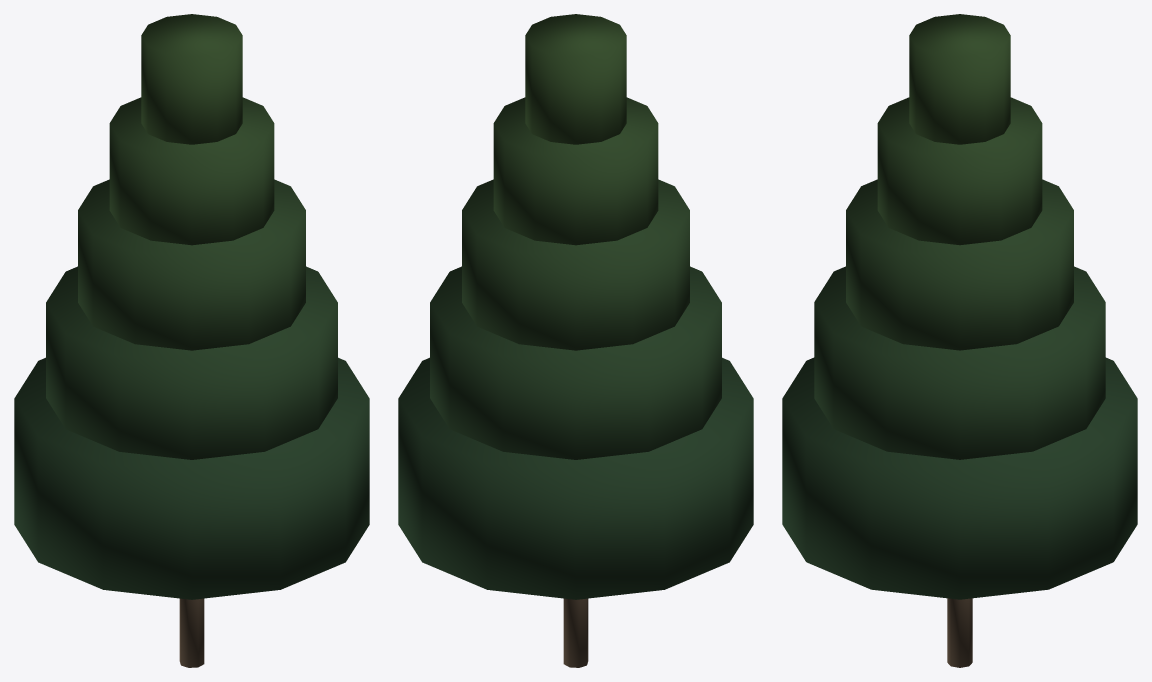
Rendered from Tree_spruce.fbx.
The picture shows the model from 3 angles, left to right: view 1: azimuth 30°, elevation 25°; view 2: azimuth 150°, elevation 25°; view 3: azimuth 270°, elevation 25°; orthographic projection.
Visible parts, largest first — view 1: Tier0, Tier1, Tier2, Tier3, Tier4, Trunk; view 2: Tier0, Tier1, Tier2, Tier3, Tier4, Trunk; view 3: Tier0, Tier1, Tier2, Tier3, Tier4, Trunk.
Part boxes in pixels (left/top/right/bottom): Tier0: left=14, top=357, right=369, bottom=599; Tier1: left=46, top=266, right=337, bottom=459; Tier2: left=78, top=179, right=305, bottom=350; Tier3: left=109, top=97, right=274, bottom=245; Tier4: left=141, top=14, right=242, bottom=144; Trunk: left=179, top=598, right=204, bottom=667; Tier0: left=398, top=357, right=753, bottom=599; Tier1: left=430, top=266, right=721, bottom=459; Tier2: left=462, top=179, right=689, bottom=350; Tier3: left=493, top=97, right=658, bottom=245; Tier4: left=525, top=14, right=626, bottom=144; Trunk: left=563, top=598, right=588, bottom=667; Tier0: left=782, top=357, right=1137, bottom=599; Tier1: left=814, top=266, right=1105, bottom=459; Tier2: left=846, top=179, right=1073, bottom=350; Tier3: left=877, top=97, right=1042, bottom=245; Tier4: left=909, top=14, right=1010, bottom=144; Trunk: left=947, top=598, right=972, bottom=667.
Bounding box in the file's own units: 560 × 560 × 1092.
